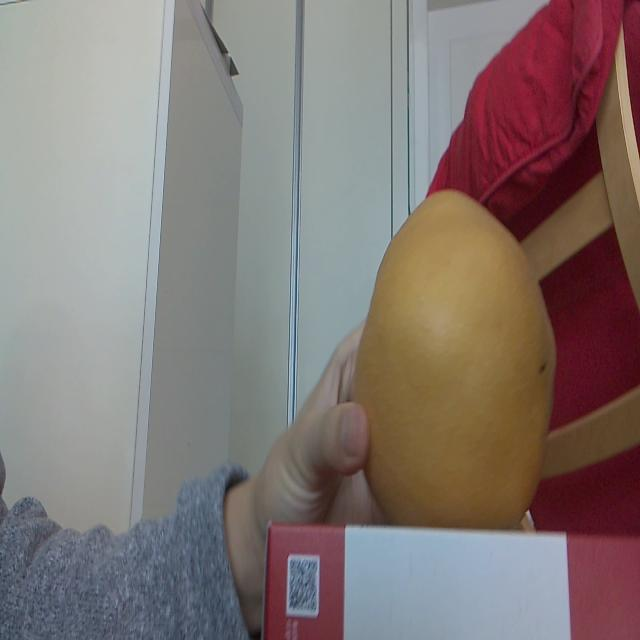pear: (351, 189, 556, 526)
